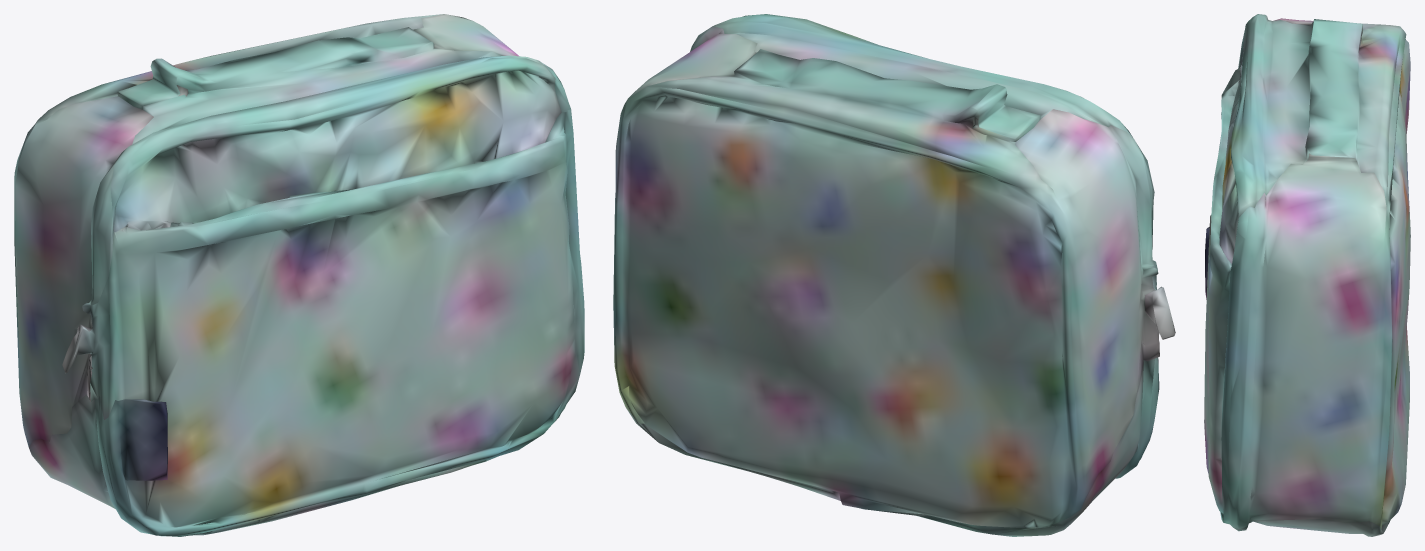
Rendered from Olive_Kids_Birdie_Lunch_Box-medium.glb.
The picture shows the model from 3 angles, left to right: view 1: azimuth 30°, elevation 25°; view 2: azimuth 150°, elevation 25°; view 3: azimuth 270°, elevation 25°; orthographic projection. The views are drawn at different scales.
Parts seen in each view (by area): view 1: Olive_Kids_Birdie_Lunch_Box; view 2: Olive_Kids_Birdie_Lunch_Box; view 3: Olive_Kids_Birdie_Lunch_Box.
Boxes of the visible parts, x1,y1,x2,y2 form: Olive_Kids_Birdie_Lunch_Box: [14, 14, 584, 536]; Olive_Kids_Birdie_Lunch_Box: [613, 14, 1175, 536]; Olive_Kids_Birdie_Lunch_Box: [1204, 14, 1410, 536].
Size of the model in its own units: 0.267 by 0.2137 by 0.1028.
1 material, 1 textured.
